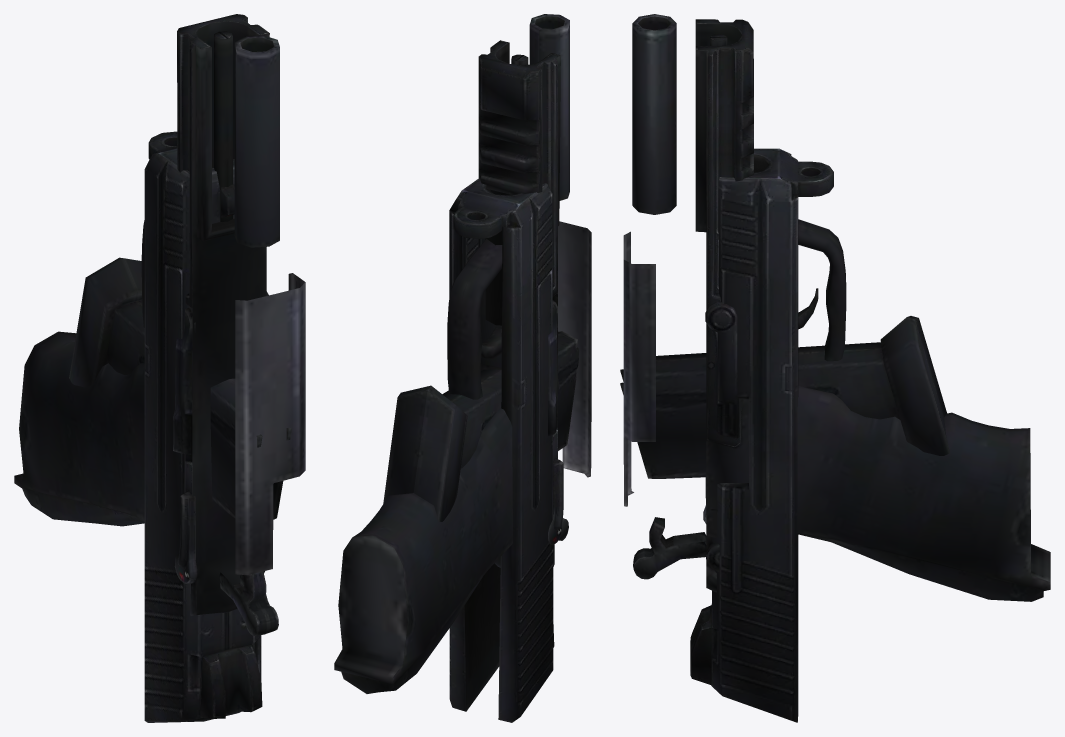
File: Hk45_Dual.obj
3 views of the same model, side by side, from view 1: azimuth 30°, elevation 25°; view 2: azimuth 150°, elevation 25°; view 3: azimuth 270°, elevation 25° (orthographic). The views are drawn at different scales.
Parts seen in each view (by area): view 1: HK45_LOD0, Handle, Magazine; view 2: HK45_LOD0, Handle, Magazine; view 3: HK45_LOD0, Handle, Magazine.
Boxes of the visible parts, x1,y1,x2,y2 form: HK45_LOD0: (14, 14, 305, 635); Handle: (144, 131, 262, 722); Magazine: (69, 257, 291, 519); HK45_LOD0: (334, 14, 591, 693); Handle: (449, 178, 554, 722); Magazine: (383, 331, 579, 521); HK45_LOD0: (623, 14, 1050, 601); Handle: (690, 148, 833, 722); Magazine: (620, 316, 950, 478).
Size of the model in its own units: 0.0315 by 0.2512 by 0.1431.
1 material, 1 textured.
